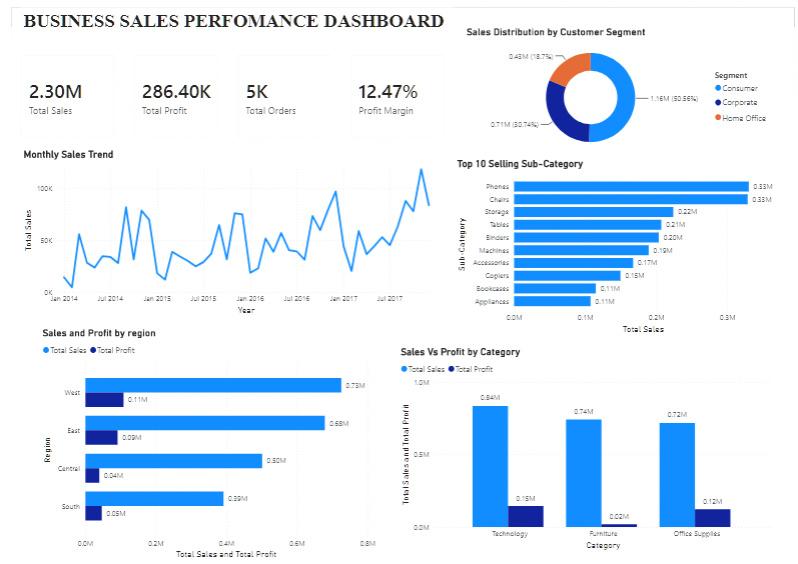

The page's visual inventory and layout, read from the dashboard file:
{"tool":"powerbi","page":{"name":"Sales Dashboard","canvas":[1330,950],"ordinal":0},"visuals":[{"type":"cardVisual","fields":{"Data":["Table_measures.Total Sales"]},"box":[0,64,192,176],"z":0},{"type":"cardVisual","fields":{"Data":["Table_measures.Total Profit"]},"box":[192,64,176,176],"z":1000},{"type":"cardVisual","fields":{"Data":["Table_measures.Total Orders"]},"box":[368,64,192,176],"z":2000},{"type":"cardVisual","fields":{"Data":["Table_measures.Profit Margin"]},"box":[560,64,192,176],"z":3000},{"type":"lineChart","title":"Monthly Sales Trend","fields":{"Category":["Superstore.Order Date.Variation.Date Hierarchy.Year","Superstore.Order Date.Variation.Date Hierarchy.Quarter","Superstore.Order Date.Variation.Date Hierarchy.Month","Superstore.Order Date.Variation.Date Hierarchy.Day"],"Y":["Table_measures.Total Sales"]},"box":[16,240,720,288],"z":4000},{"type":"clusteredBarChart","title":"Top 10 Selling Sub-Category","fields":{"Category":["Superstore.Sub-Category"],"Y":["Table_measures.Total Sales"]},"box":[752,256,560,304],"z":5000},{"type":"clusteredColumnChart","title":"Sales Vs Profit by Category","fields":{"Category":["Superstore.Category"],"Y":["Table_measures.Total Sales","Table_measures.Total Profit"]},"box":[656,576,640,352],"z":6000},{"type":"clusteredBarChart","title":"Sales and Profit by region","fields":{"Category":["Superstore.Region"],"Y":["Table_measures.Total Sales","Table_measures.Total Profit"]},"box":[48,544,576,400],"z":7000},{"type":"donutChart","title":"Sales Distribution by Customer Segment","fields":{"Category":["Superstore.Segment"],"Y":["Table_measures.Total Sales"]},"box":[768,32,528,224],"z":8000},{"type":"textbox","box":[16,0,736,64],"z":8001}]}

Visuals, with their boxes in screenshot pixels (x1, y1, x2, y2), scaled from the page's 1330x950 canvas onto the 798x564 screenshot:
cardVisual - Table_measures.Total Sales: 0/38/115/142
cardVisual - Table_measures.Total Profit: 115/38/221/142
cardVisual - Table_measures.Total Orders: 221/38/336/142
cardVisual - Table_measures.Profit Margin: 336/38/451/142
"Monthly Sales Trend" lineChart: 10/142/442/313
"Top 10 Selling Sub-Category" clusteredBarChart: 451/152/787/332
"Sales Vs Profit by Category" clusteredColumnChart: 394/342/778/551
"Sales and Profit by region" clusteredBarChart: 29/323/374/560
"Sales Distribution by Customer Segment" donutChart: 461/19/778/152
textbox: 10/0/451/38
